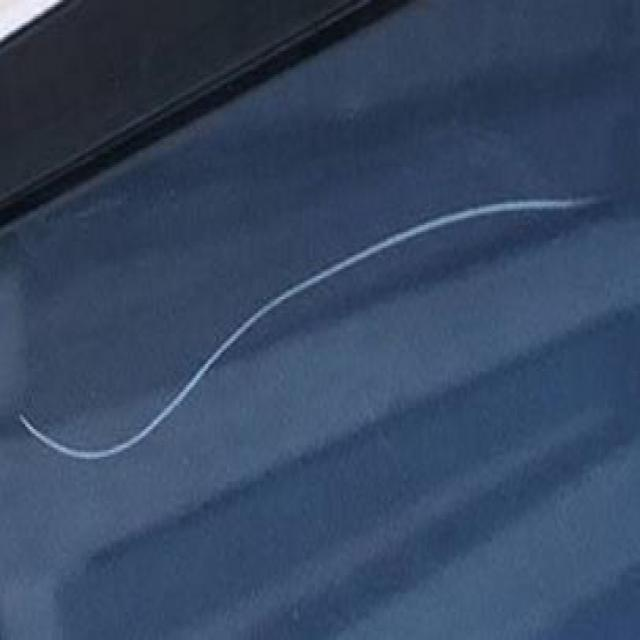scratch: (12, 181, 600, 471)
